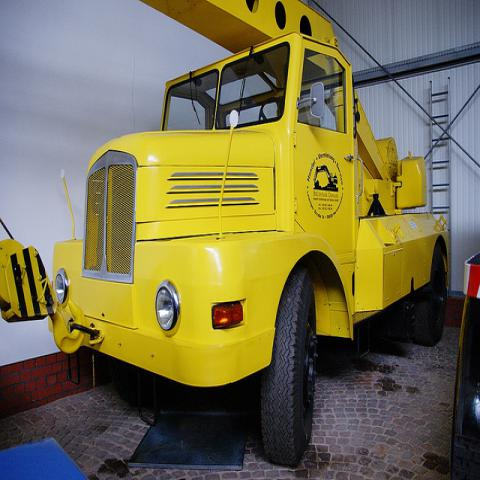truck: (1, 1, 450, 466)
